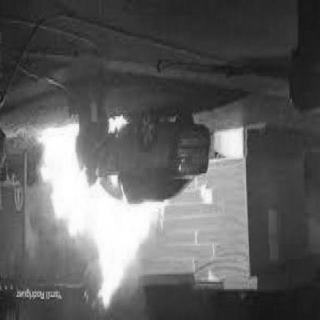Fire: (36, 114, 172, 314)
